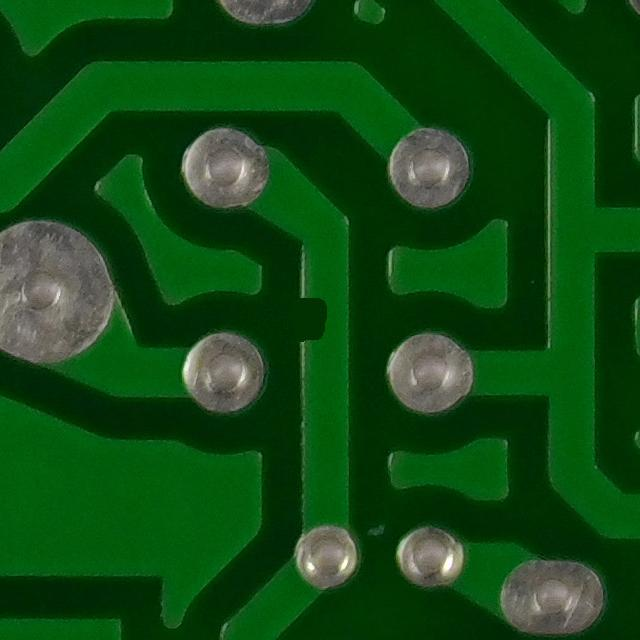mouse_bite: (280, 282, 360, 359)
